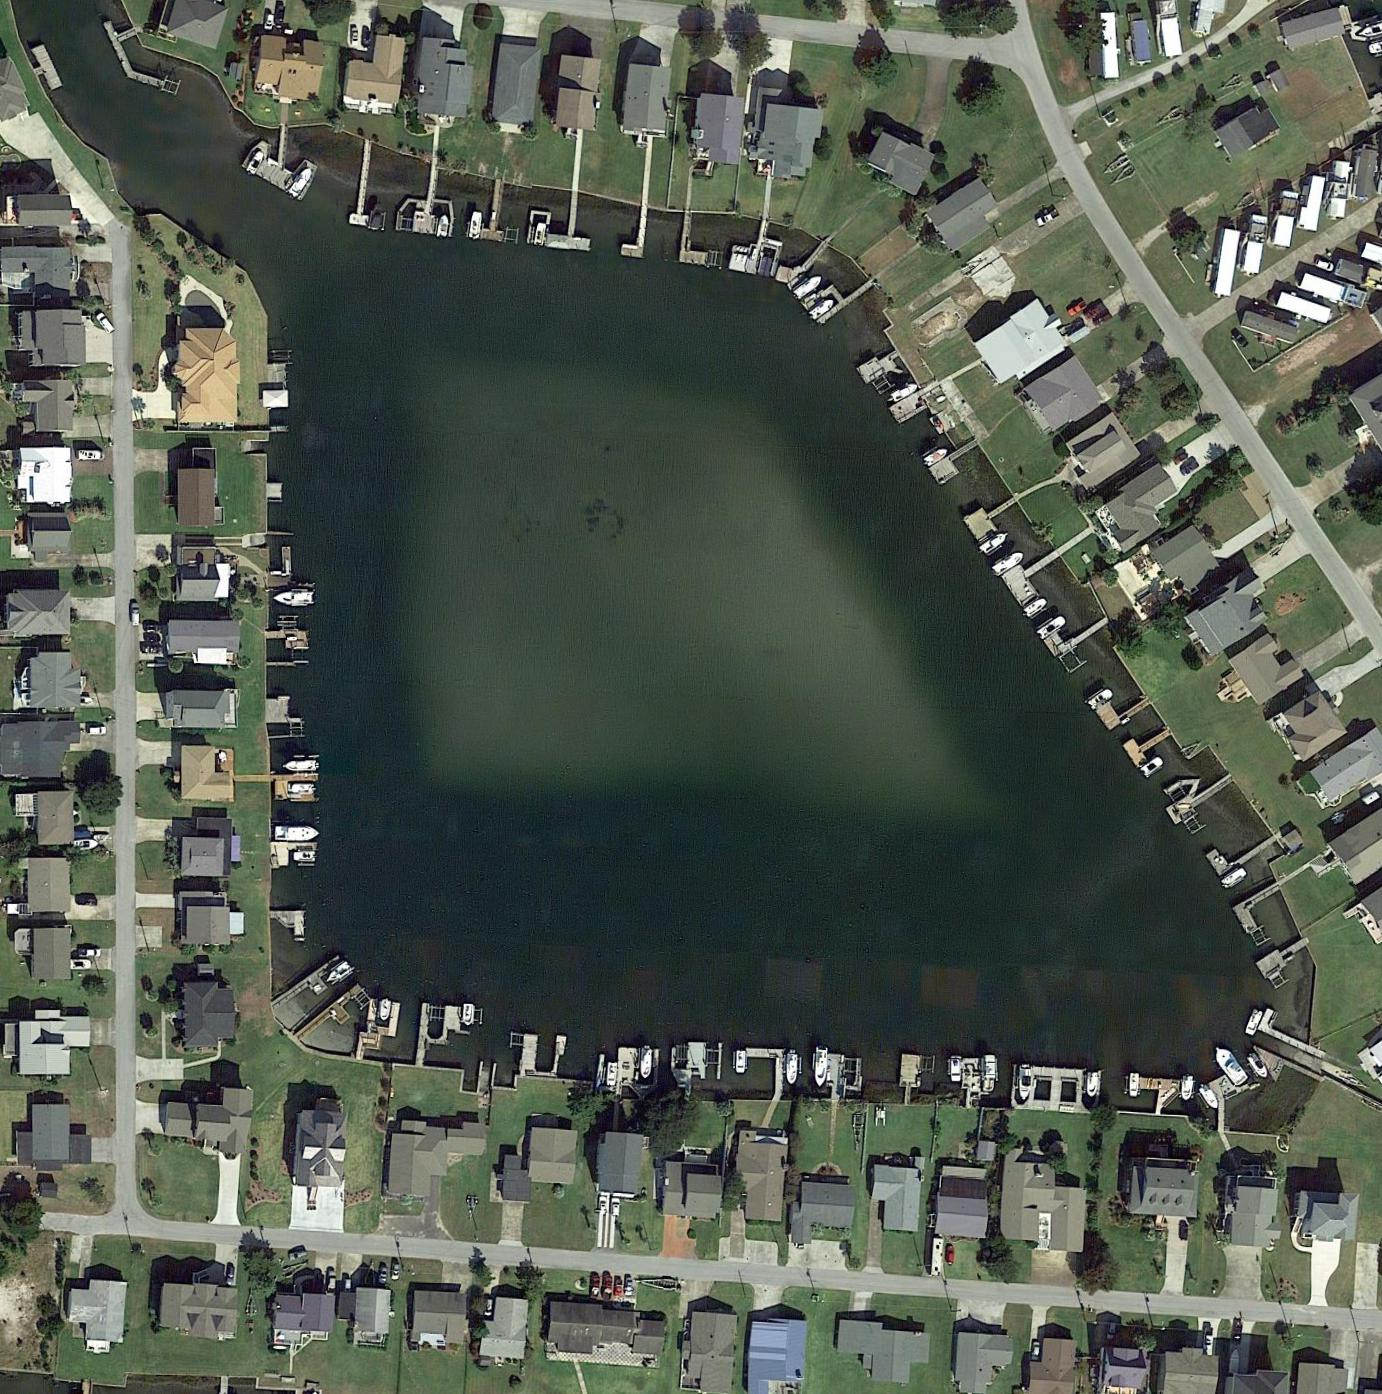harbor: (1001, 520, 1105, 608), (396, 130, 464, 237), (888, 358, 991, 425), (545, 132, 601, 251), (104, 10, 170, 103), (1234, 865, 1319, 934), (240, 134, 321, 203), (1011, 1064, 1104, 1115), (299, 983, 372, 1047), (802, 265, 875, 329), (1247, 1045, 1325, 1102), (1205, 820, 1279, 880), (278, 955, 351, 1014), (596, 1042, 662, 1104), (728, 217, 788, 282), (349, 138, 392, 230), (1166, 771, 1236, 826), (1043, 603, 1109, 661), (1257, 1007, 1328, 1060), (963, 487, 1028, 546), (1195, 1075, 1252, 1141), (621, 149, 654, 260), (415, 1002, 464, 1069), (356, 996, 402, 1064), (1095, 682, 1150, 733), (929, 437, 986, 486), (1123, 720, 1180, 770), (1255, 936, 1311, 980), (518, 1031, 568, 1079), (743, 1048, 786, 1102), (672, 1042, 709, 1102), (480, 179, 513, 243), (680, 213, 716, 268), (24, 43, 63, 94), (824, 1053, 864, 1100), (856, 346, 904, 385), (254, 774, 319, 803), (1138, 1077, 1182, 1115), (896, 1053, 924, 1107), (957, 1058, 986, 1109), (271, 912, 308, 945), (266, 695, 306, 724), (266, 547, 294, 589), (272, 843, 318, 865), (268, 631, 311, 651)
ship: (1209, 1042, 1250, 1089), (991, 548, 1026, 579), (287, 165, 315, 201), (1035, 612, 1068, 642), (885, 377, 919, 406), (791, 272, 823, 301), (275, 826, 321, 845), (1247, 1050, 1272, 1083), (323, 960, 353, 986), (1197, 1083, 1223, 1114), (812, 1046, 830, 1090), (807, 296, 838, 322), (980, 529, 1010, 555), (1085, 686, 1115, 712), (1243, 1007, 1264, 1039), (1219, 867, 1250, 889), (923, 444, 950, 468), (1139, 755, 1166, 779), (273, 590, 315, 605), (1024, 595, 1050, 618), (244, 149, 266, 177), (467, 210, 485, 242), (983, 1055, 999, 1091), (1018, 1067, 1031, 1102), (283, 758, 318, 772), (786, 1051, 799, 1085), (640, 1047, 653, 1080), (1228, 1347, 1242, 1376), (532, 222, 548, 246), (73, 839, 100, 853), (949, 1056, 963, 1083), (287, 784, 316, 796), (377, 1000, 394, 1022), (1181, 1076, 1193, 1103), (606, 1062, 618, 1091), (290, 850, 315, 862), (462, 1004, 476, 1027), (70, 957, 92, 971), (1086, 1072, 1099, 1096), (735, 1050, 748, 1074), (435, 215, 449, 237), (1128, 1074, 1139, 1098), (875, 1108, 888, 1127)
